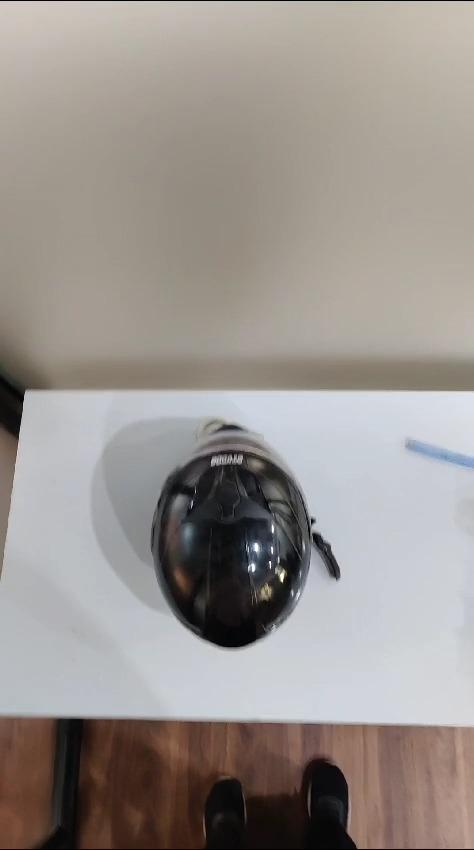Helmet: (151, 420, 339, 646)
